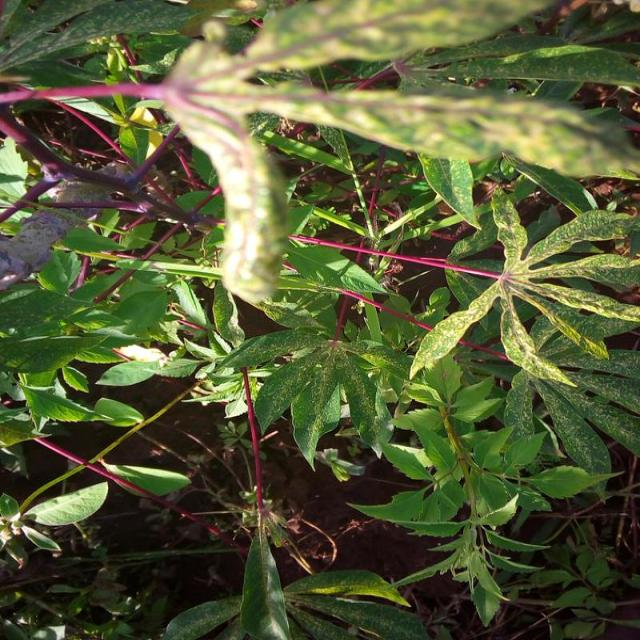cassava leaf: (408, 185, 638, 388)
